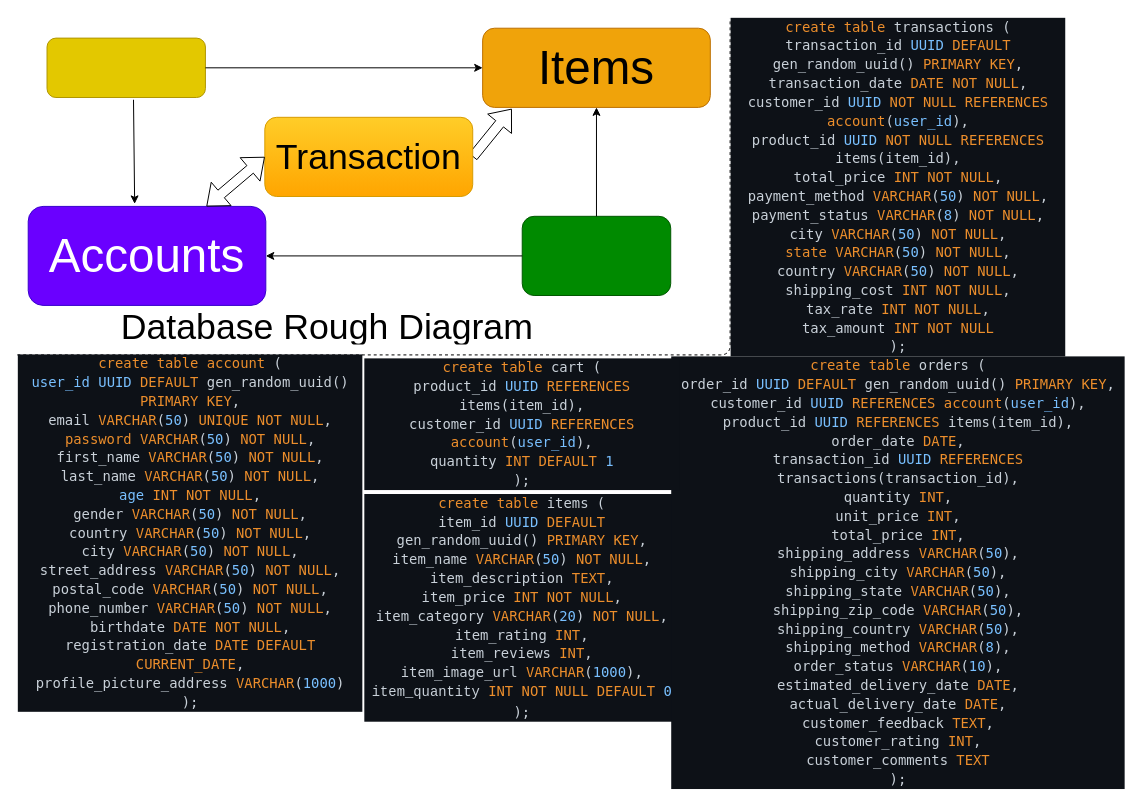
Image size: 1143x807. Some labels were removed from this diagram. Each missing label, with the centre of its shape:
Cart: point 125,67
Orders: point 596,255
